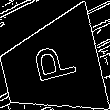P_W: (24, 43, 78, 92)
